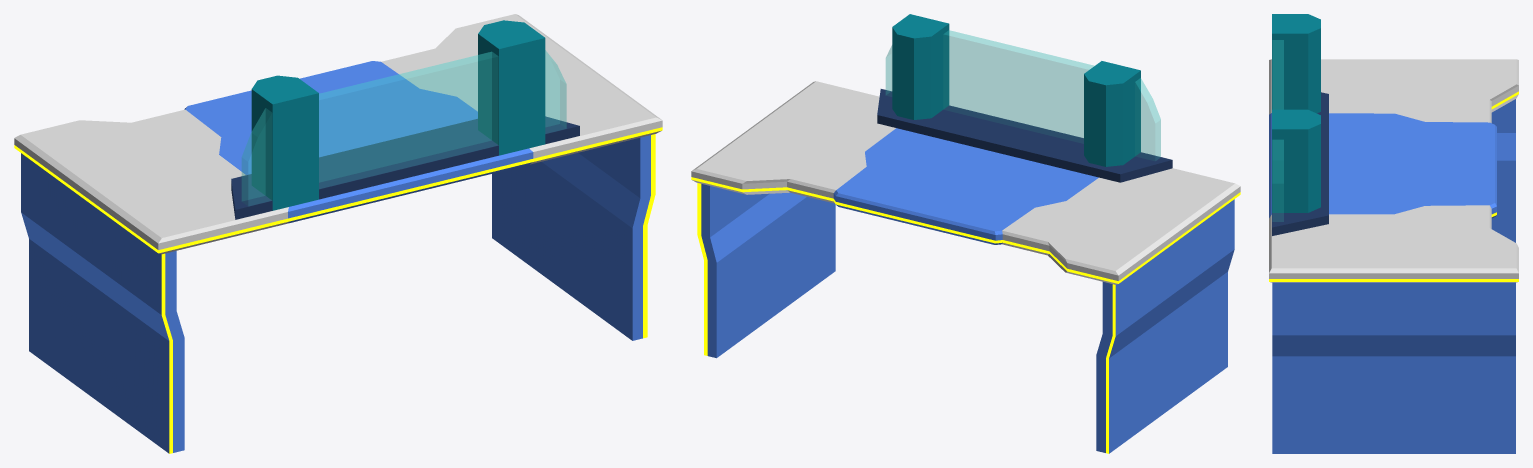
Rendered from table_tier18.fbx.
3 renders of one model, left to right at view 1: azimuth 30°, elevation 25°; view 2: azimuth 150°, elevation 25°; view 3: azimuth 270°, elevation 25°, orthographic. The views are drawn at different scales.
Visible parts, largest first — view 1: Cube.005, Cube.001, Cube, Cube.002, Cube.008, Cube.004, Cube.003; view 2: Cube.005, Cube.001, Cube, Cube.002, Cube.008, Cube.003, Cube.004; view 3: Cube.005, Cube, Cube.003, Cube.004, Cube.001, Cube.008, Cube.002.
Part boxes in pixels (x1,y1,x2,y2): Cube.005: (14, 14, 662, 254); Cube.001: (21, 153, 184, 453); Cube: (492, 134, 655, 340); Cube.002: (242, 50, 566, 205); Cube.008: (231, 116, 579, 219); Cube.004: (251, 75, 318, 210); Cube.003: (478, 20, 545, 155); Cube.005: (691, 81, 1240, 284); Cube.001: (1096, 199, 1234, 453); Cube: (697, 183, 835, 358); Cube.002: (886, 30, 1160, 160); Cube.008: (877, 89, 1172, 182); Cube.003: (892, 14, 949, 119); Cube.004: (1084, 61, 1140, 166); Cube.005: (1269, 59, 1518, 282); Cube: (1272, 282, 1515, 453); Cube.003: (1272, 109, 1320, 212); Cube.004: (1272, 14, 1320, 113); Cube.001: (1491, 99, 1515, 242); Cube.008: (1272, 92, 1328, 235); Cube.002: (1272, 40, 1283, 221).
Size of the model in its own units: 224 by 138 by 111.
